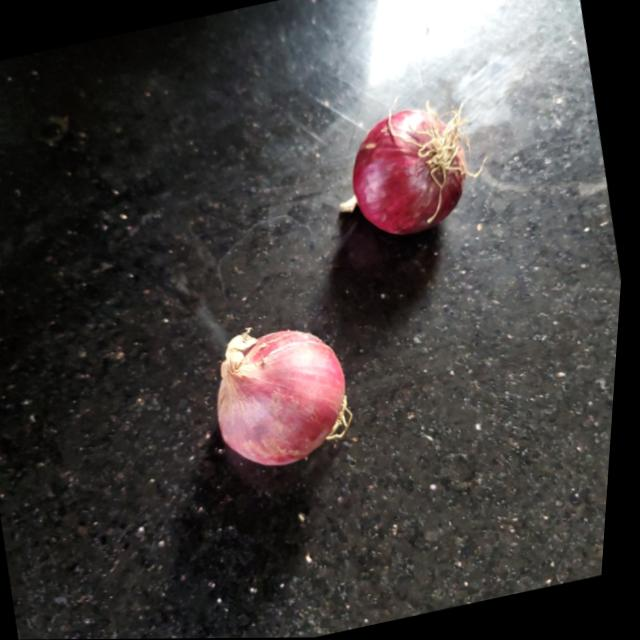onion: (203, 318, 368, 478), (338, 104, 477, 247)
